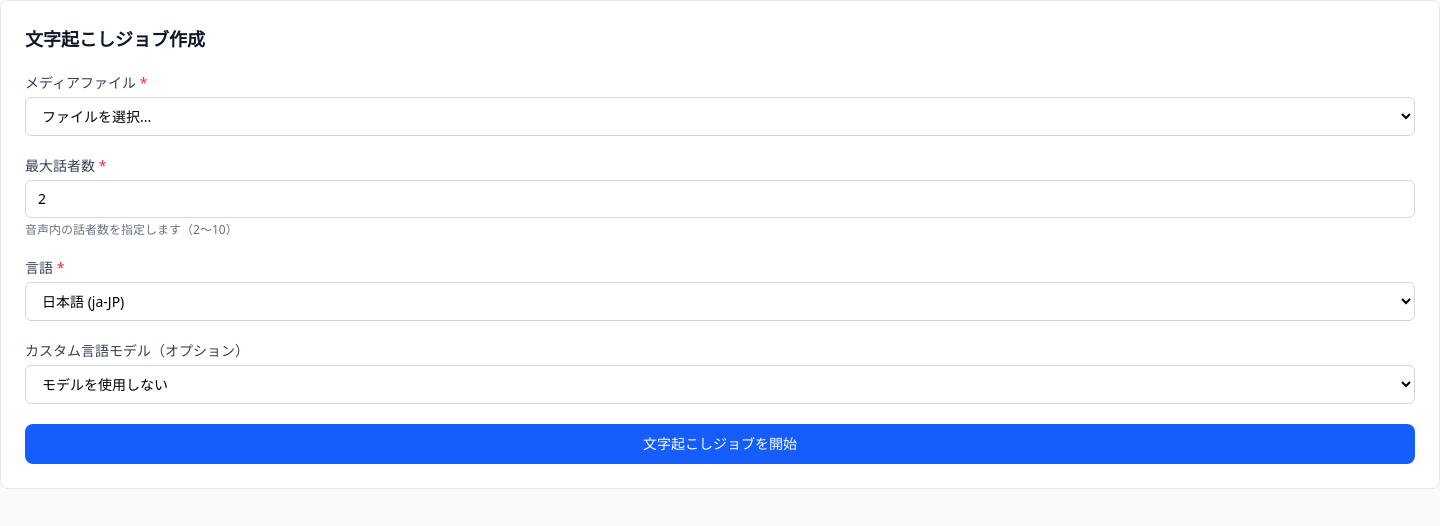
TranscriptionJobForm › validation › shows error when submitting without selecting a media file
This screenshot has width=1440, height=526.
Step 1. Click the button "文字起こしジョブを開始" → (720, 444), box 25,424 -> 1415,464
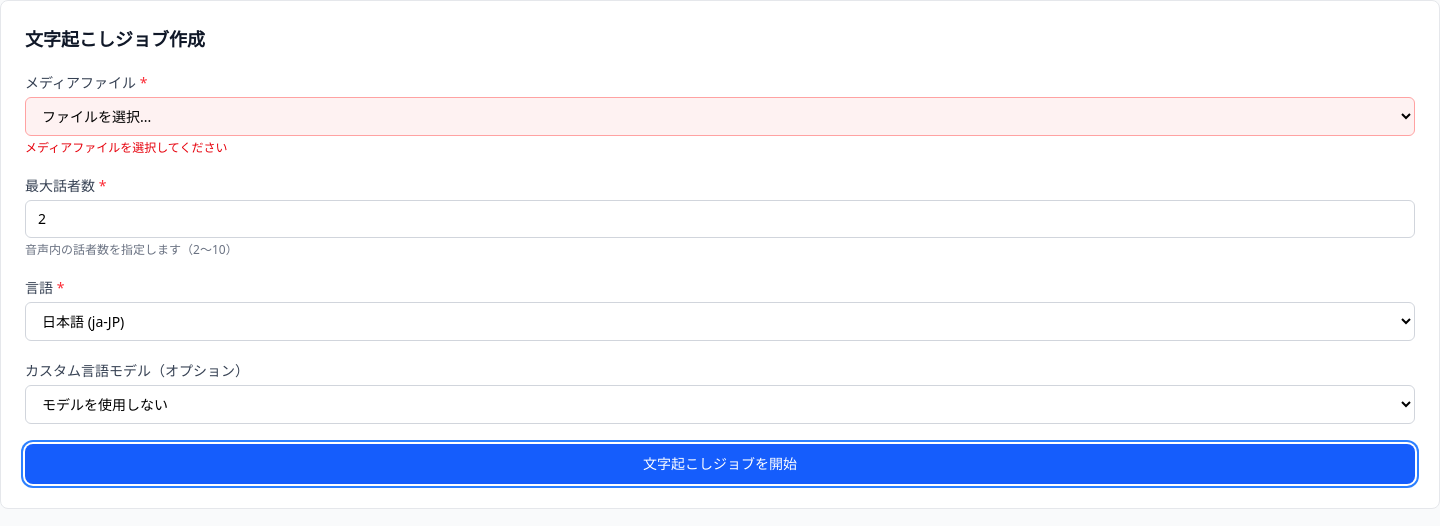
Expected: the text "メディアファイルを選択してください" is shown, 25,139 -> 228,156
